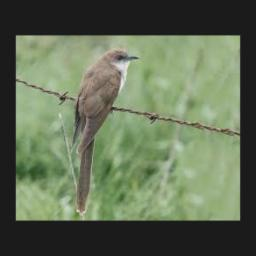Cuckoo: (72, 48, 140, 216)
